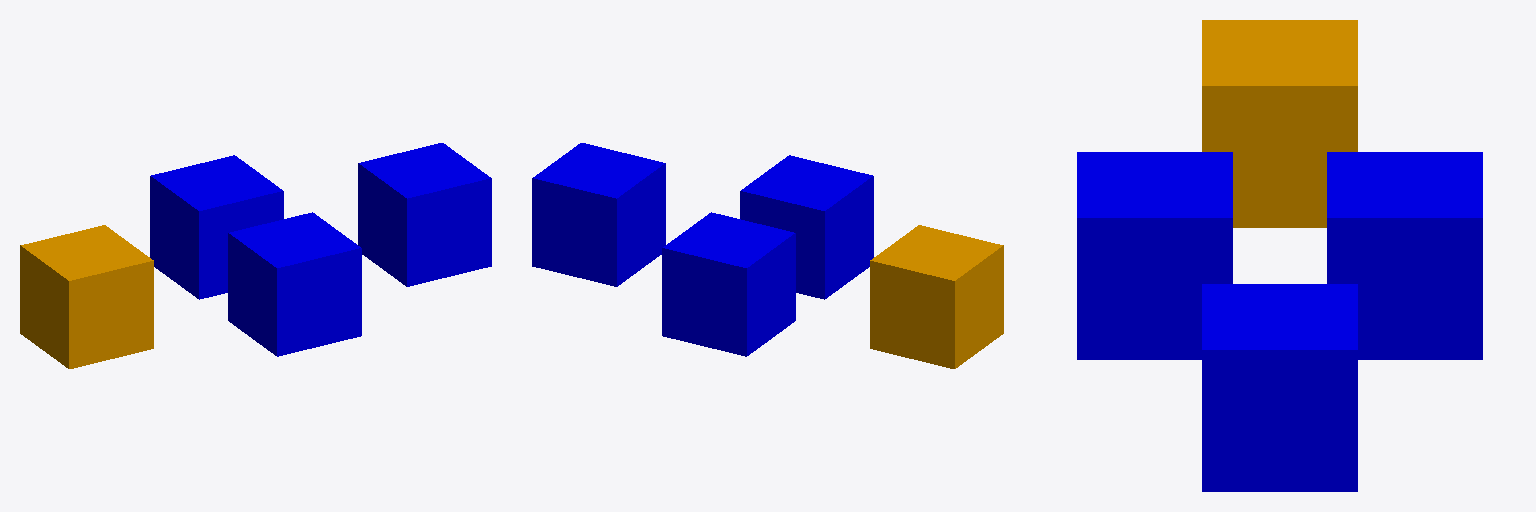
The robot description file, URDF, robot "material_mesh_override":
<?xml version="1.0"?>
<robot name="material_mesh_override">
  <material name="blue">
    <color rgba="0 0 1 1"/>
  </material>
  <link name="link_box">
    <visual>
      <geometry>
        <box size="0.5 0.5 0.5"/>
      </geometry>
    </visual>
  </link>
  <link name="link_obj">
    <visual>
      <geometry>
        <!-- This obj file has two materials: green_mat and red_mat. -->
        <mesh filename="assets/two_boxes.obj" scale="0.5 0.5 0.5"/>
      </geometry>
      <!-- Override the material with blue. -->
      <material name="blue"/>
    </visual>
  </link>
  <link name="link_dae">
    <visual>
      <geometry>
        <!-- This dae file has a material: Material. -->
        <mesh filename="assets/box.dae" scale="0.5 0.5 0.5"/>
      </geometry>
      <!-- Override the material with blue. -->
      <!-- dae has only one mesh and already has a material assigned. -->
      <!-- This URDF material specification will be skipped. -->
      <material name="blue"/>
    </visual>
  </link>

  <joint name="joint_box_obj" type="fixed">
    <origin rpy="0 0 0" xyz="1 0 0"/>
    <parent link="link_box"/>
    <child link="link_obj"/>
  </joint>
  <joint name="joint_obj_dae" type="fixed">
    <origin rpy="0 0 0" xyz="1 0 0"/>
    <parent link="link_obj"/>
    <child link="link_dae"/>
  </joint>
</robot>

--- Facts derived from the render (not from the file) ---
3 views of the same robot in one strip: view 1: azimuth 30°, elevation 25°; view 2: azimuth 150°, elevation 25°; view 3: azimuth 270°, elevation 25° (orthographic).
Model material_mesh_override with 3 links and 2 joints (2 fixed), rooted at link_box, posed every joint at zero.
Visible links, largest first — view 1: link_obj, link_box, link_dae; view 2: link_obj, link_box, link_dae; view 3: link_obj, link_dae, link_box.
Link boxes in pixels (<box>): link_obj: <box>150,155,361,356</box>; link_box: <box>20,225,153,368</box>; link_dae: <box>358,143,491,286</box>; link_obj: <box>662,155,873,356</box>; link_box: <box>870,225,1003,368</box>; link_dae: <box>532,143,665,286</box>; link_obj: <box>1077,152,1482,359</box>; link_dae: <box>1202,284,1357,491</box>; link_box: <box>1202,20,1357,227</box>.
Bounding box of the posed robot: 2.5 × 1.3 × 0.5 m (x, y, z).
Meshes: 2 distinct files referenced, 2 mesh visuals loaded (1 Collada DAE, 1 OBJ).